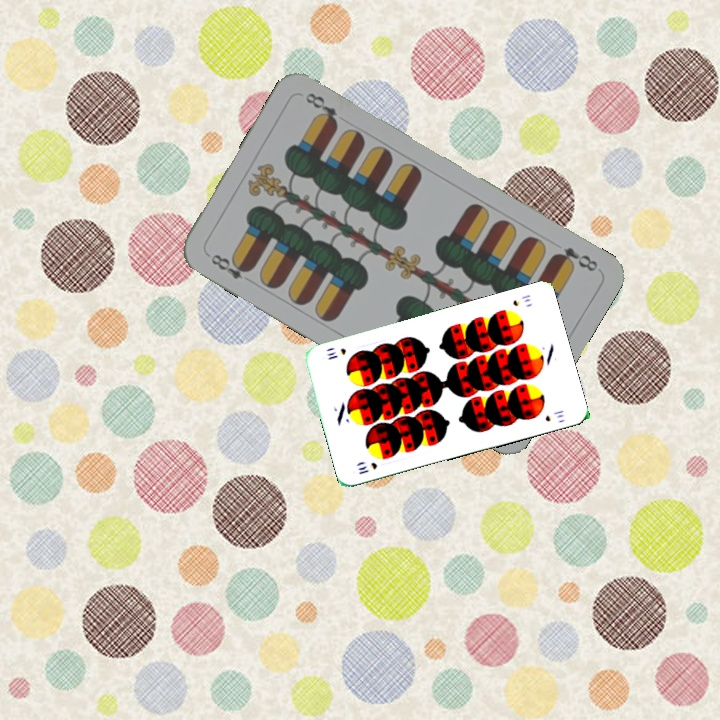E8: (207, 250, 256, 287), (548, 243, 601, 275)
S10: (354, 458, 380, 477), (509, 291, 533, 309)
